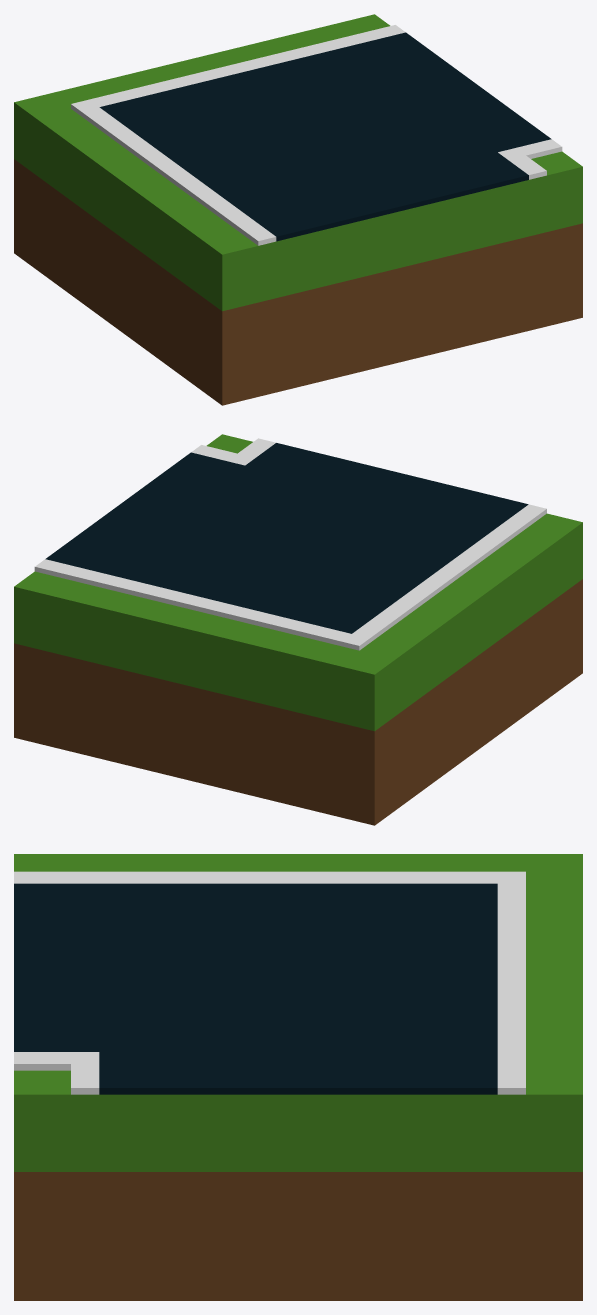
Rendered from L_Road.fbx.
The picture shows the model from 3 angles, top to bottom: view 1: azimuth 30°, elevation 25°; view 2: azimuth 150°, elevation 25°; view 3: azimuth 270°, elevation 25°; orthographic projection. The views are drawn at different scales.
Parts seen in each view (by area): view 1: Base.004, Pavement.003; view 2: Base.004, Pavement.003; view 3: Base.004, Pavement.003.
Part boxes in pixels (x1,y1,x2,y2): Base.004: (14, 14, 582, 405); Pavement.003: (71, 25, 562, 245); Base.004: (14, 434, 582, 825); Pavement.003: (34, 438, 546, 650); Base.004: (14, 854, 582, 1300); Pavement.003: (14, 871, 525, 1094).
Bounding box in the file's own units: 200 × 82.5 × 200.
